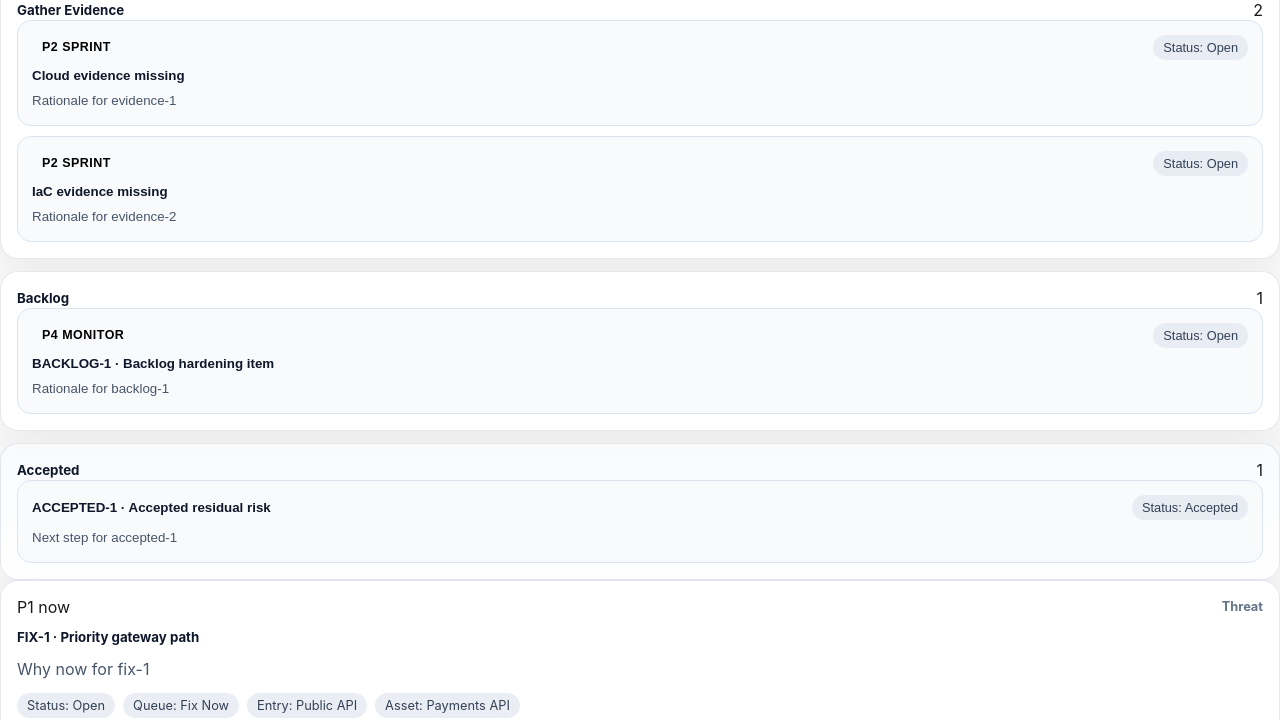
SecurityReviewPanel › keeps a threat-heavy queue grouped and updates detail focus when a finding is selected
(page scrolled)
expect the heading "Gather Evidence" is shown: met, box [17,2,124,18]
expect the heading "Backlog" is shown: met, box [17,290,69,306]
Click the button "Backlog hardening item".
click(83, 335)  # box [17,308,1263,414]
(page scrolled)
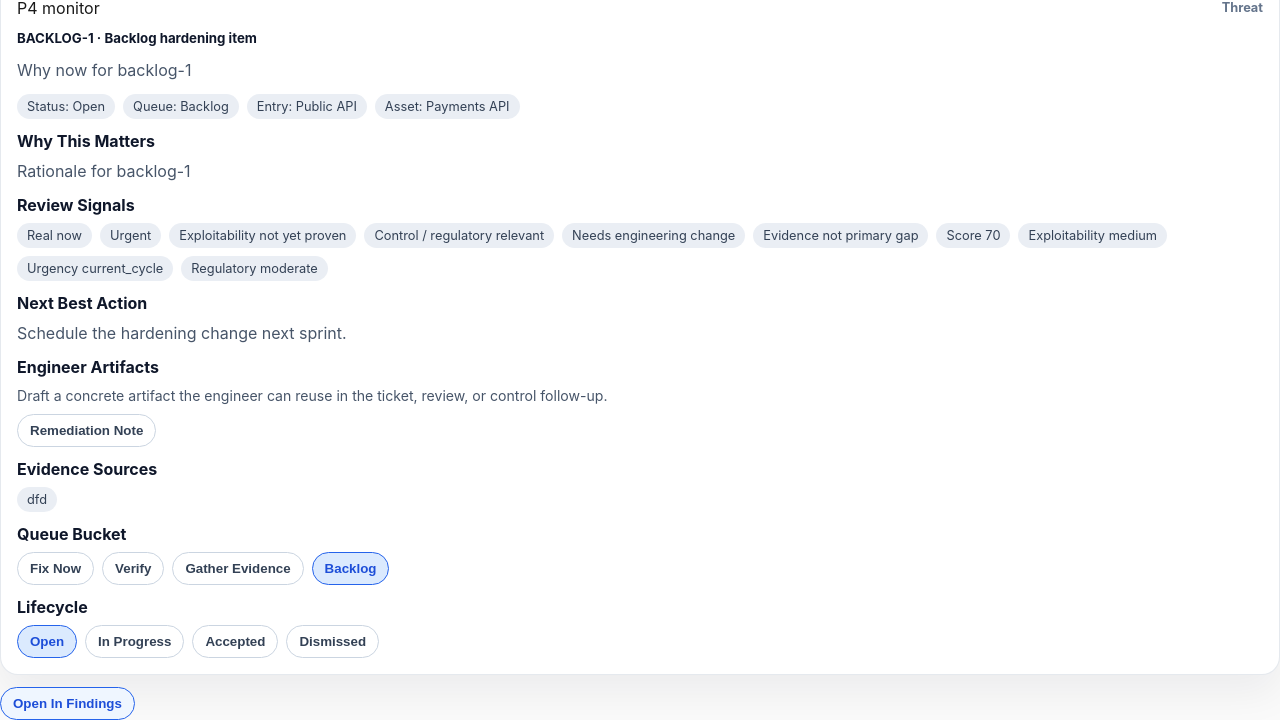
expect the button "Open In Findings" is shown: met, box [0,687,135,719]
expect the text "Schedule the hardening change next sprint." is shown: met, box [17,323,347,343]
